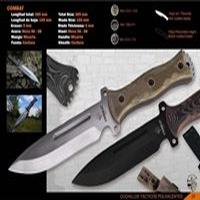knife: (5, 48, 189, 176), (69, 92, 200, 187)
